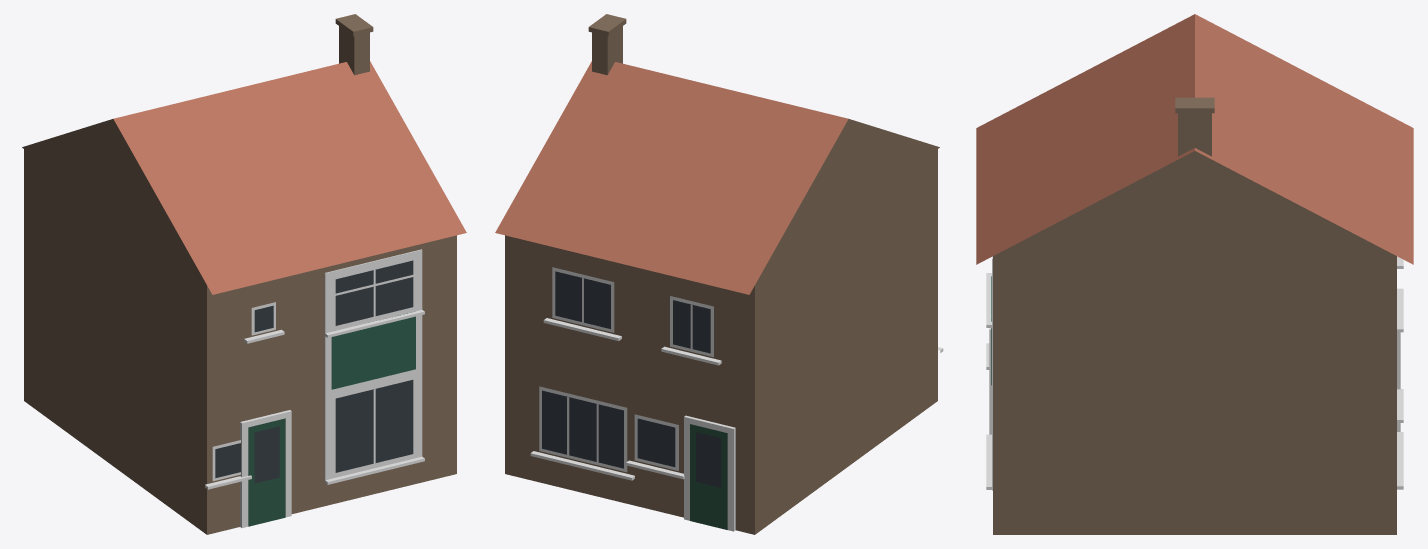
File: ws-wz-bay__green__2__gable__long__solid__mirror.glb
3 renders of one model, left to right at view 1: azimuth 30°, elevation 25°; view 2: azimuth 150°, elevation 25°; view 3: azimuth 270°, elevation 25°, orthographic. The views are drawn at different scales.
Visible parts, largest first — view 1: ws-wz-bay__green__2__gable__long__solid__mirror; view 2: ws-wz-bay__green__2__gable__long__solid__mirror; view 3: ws-wz-bay__green__2__gable__long__solid__mirror.
Boxes of the visible parts, left/top/right/bottom form: ws-wz-bay__green__2__gable__long__solid__mirror: left=22, top=14, right=466, bottom=534; ws-wz-bay__green__2__gable__long__solid__mirror: left=495, top=14, right=943, bottom=534; ws-wz-bay__green__2__gable__long__solid__mirror: left=976, top=14, right=1413, bottom=534.
Size of the model in its own units: 5.76 by 8.37 by 7.79.
